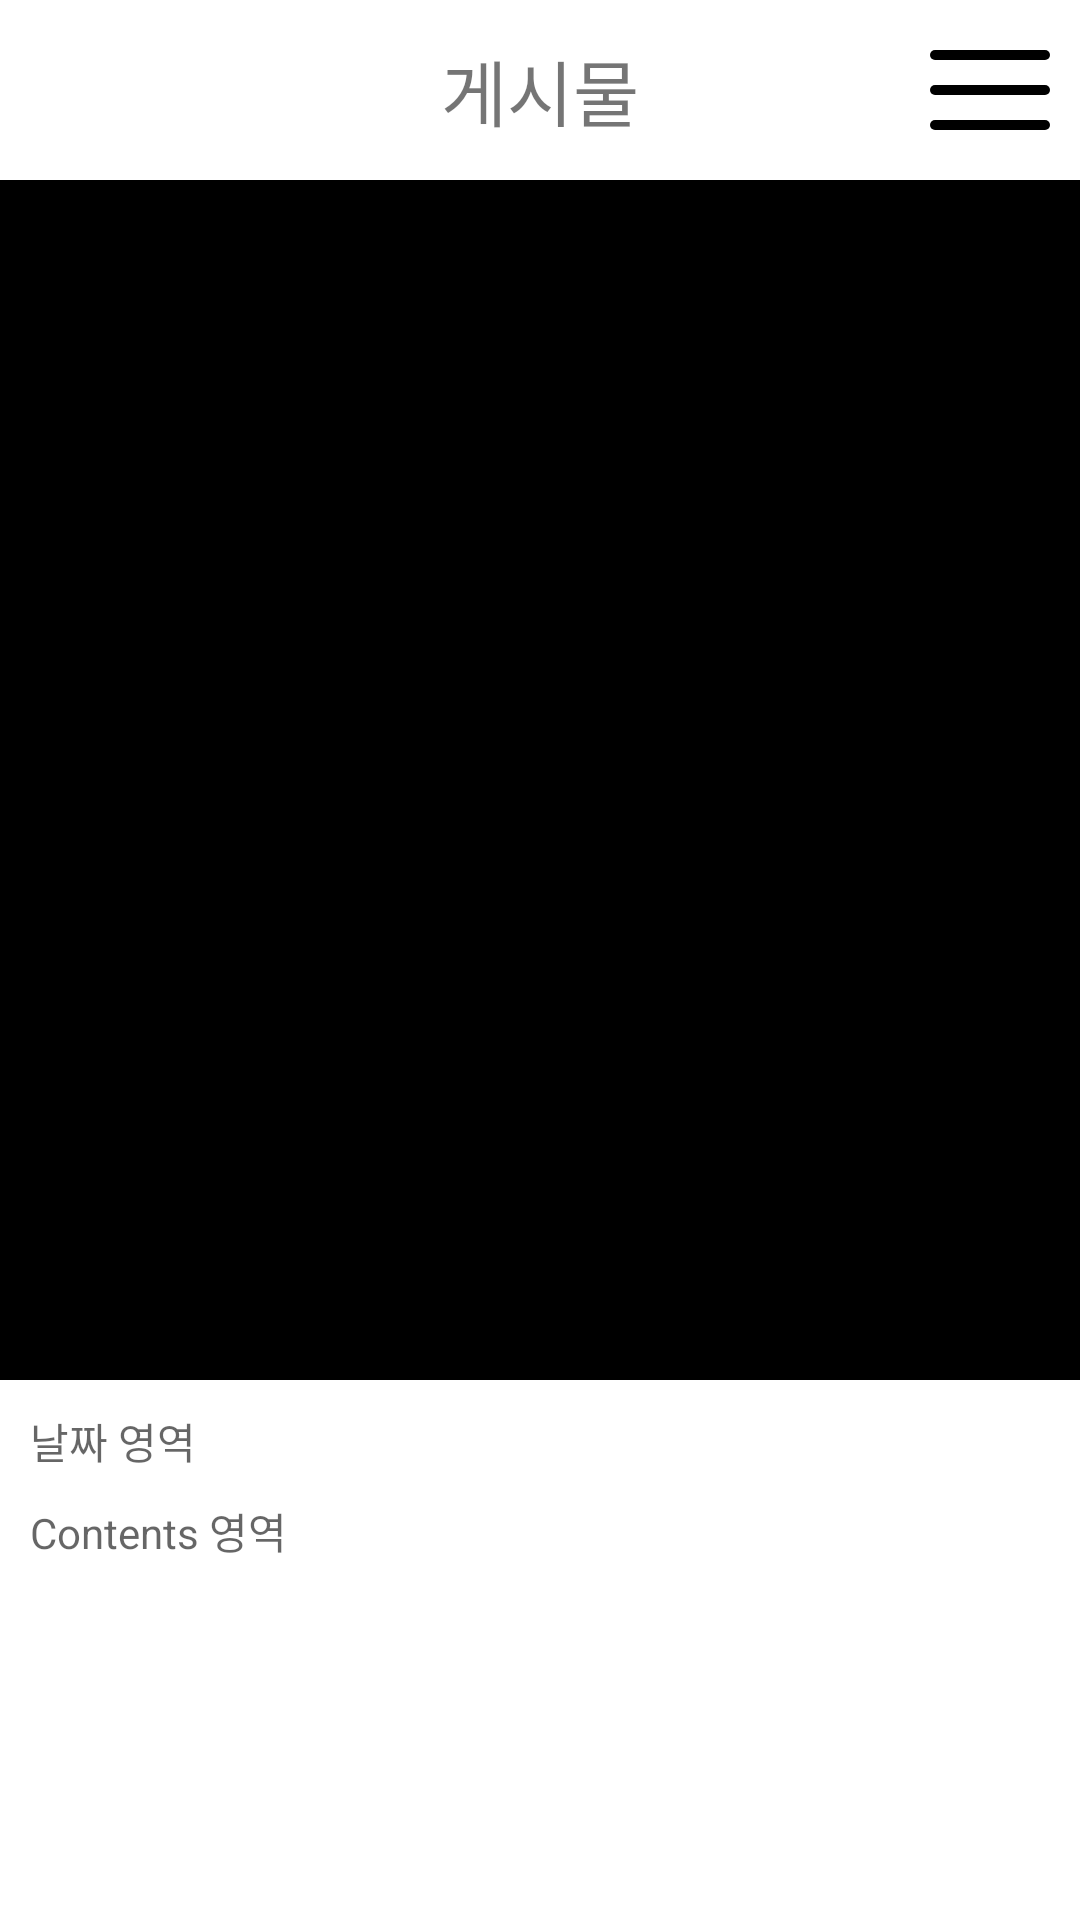

Icon click points for this 1080 × 1920 phone screenshot, format [x,y]:
free font menu burger: [990,90]
